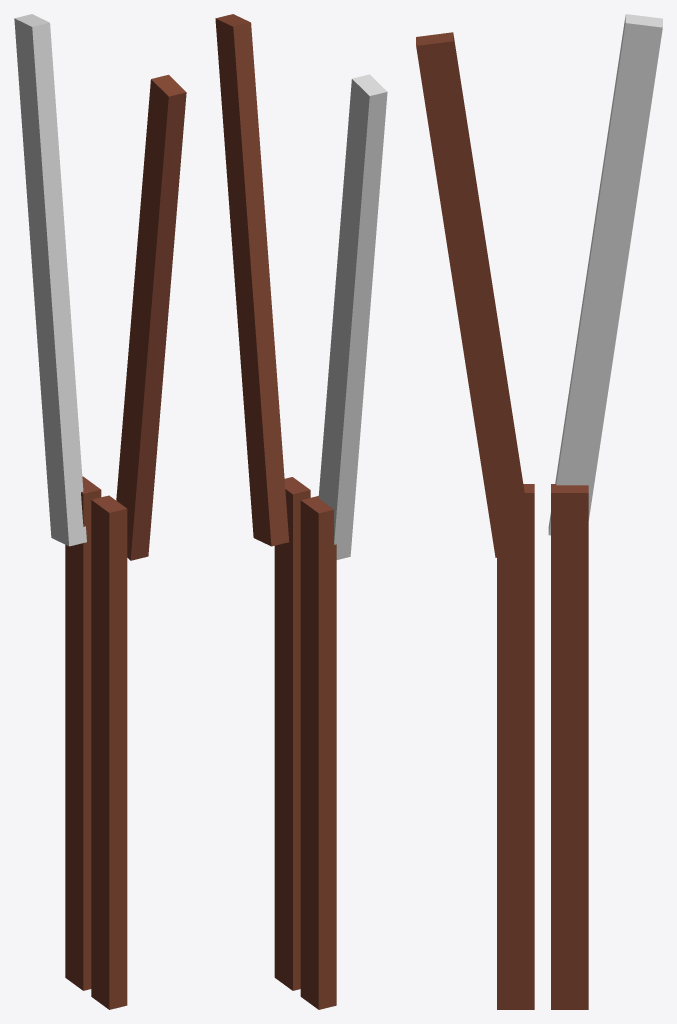
The model's file is Escultura9.fbx.
3 views of the same model, side by side, from view 1: azimuth 30°, elevation 25°; view 2: azimuth 210°, elevation 25°; view 3: azimuth 270°, elevation 25° (orthographic). The views are drawn at different scales.
Visible parts, largest first — view 1: Cube, Cube.002, Cube.001; view 2: Cube, Cube.001, Cube.002; view 3: Cube, Cube.001, Cube.002.
Boxes of the visible parts, box(x1,y1,x2,y2) form: Cube: box(65, 476, 127, 1009); Cube.002: box(14, 14, 86, 546); Cube.001: box(116, 74, 186, 560); Cube: box(274, 477, 336, 1009); Cube.001: box(215, 14, 289, 546); Cube.002: box(318, 74, 387, 559); Cube: box(497, 484, 588, 1009); Cube.001: box(416, 32, 532, 557); Cube.002: box(548, 14, 662, 535).
Bounding box in the file's own units: 166 × 2778 × 635.
